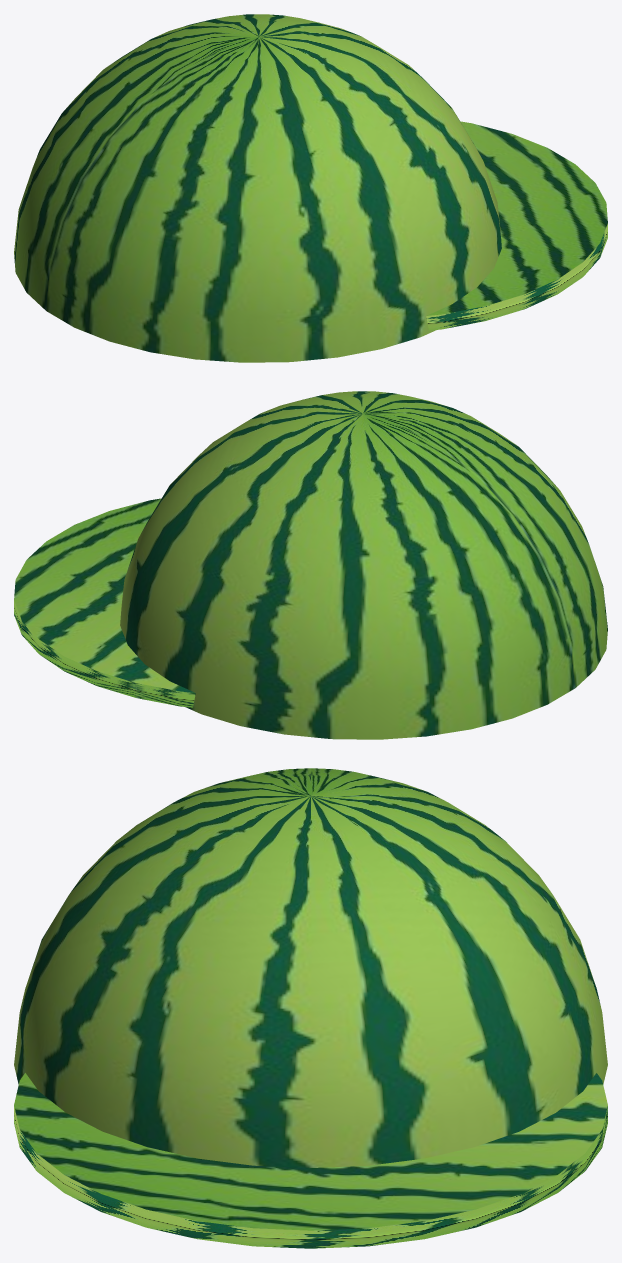
Rendered from watermelonhat.fbx.
3 views of the same model, one above another, from view 1: azimuth 30°, elevation 25°; view 2: azimuth 150°, elevation 25°; view 3: azimuth 270°, elevation 25° (orthographic). The views are drawn at different scales.
Visible parts, largest first — view 1: Sphere, Cylinder; view 2: Sphere, Cylinder; view 3: Sphere, Cylinder.
Boxes of the visible parts, x1,y1,x2,y2 form: Sphere: (14,14,501,362); Cylinder: (426,121,607,330); Sphere: (120,391,607,739); Cylinder: (14,498,195,707); Sphere: (14,768,607,1167); Cylinder: (14,1073,607,1248).
Bounding box in the file's own units: 2.49 × 2 × 1.
